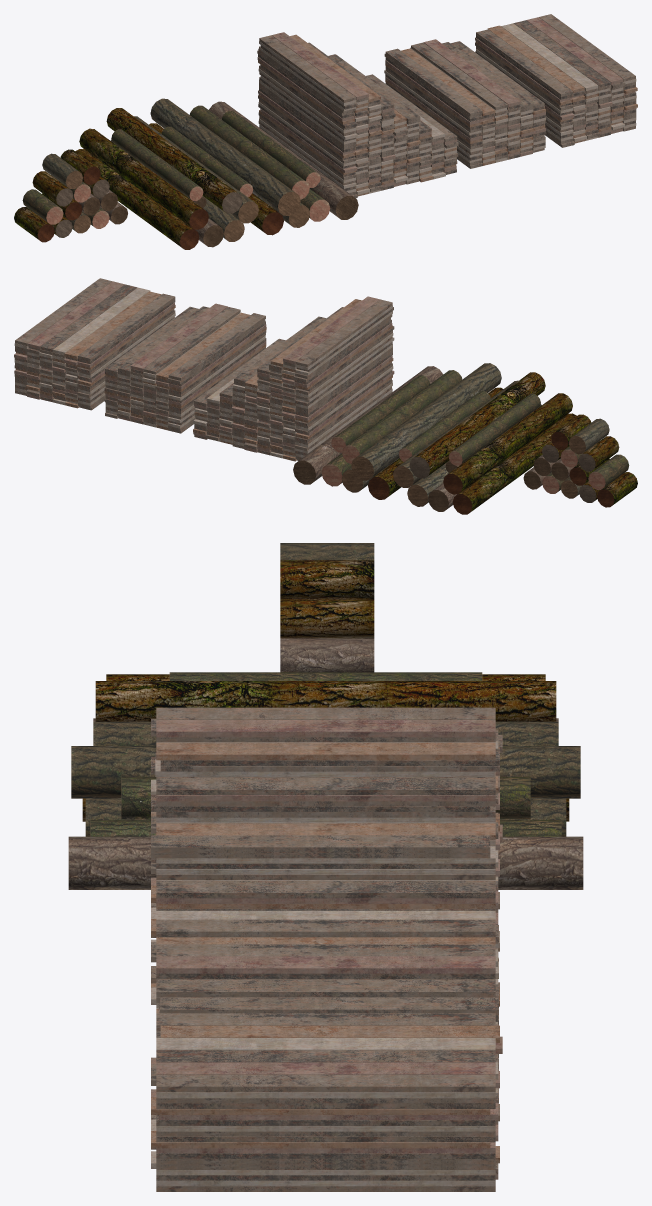
Rendered from woodpack.fbx.
The picture shows the model from 3 angles, top to bottom: view 1: azimuth 30°, elevation 25°; view 2: azimuth 150°, elevation 25°; view 3: azimuth 270°, elevation 25°; orthographic projection. The views are drawn at different scales.
Visible parts, largest first — view 1: PCAK_wood4, PCAK_wood1, PCAK_wood2, PCAK_wood3, PCAK_wood5; view 2: PCAK_wood4, PCAK_wood1, PCAK_wood2, PCAK_wood3, PCAK_wood5; view 3: PCAK_wood1, PCAK_wood3, PCAK_wood4, PCAK_wood2, PCAK_wood5.
Part boxes in pixels (box(x1,y1,x2,y2)): PCAK_wood4: box(75, 98, 358, 249); PCAK_wood1: box(257, 32, 458, 198); PCAK_wood2: box(384, 39, 545, 168); PCAK_wood3: box(475, 14, 637, 147); PCAK_wood5: box(14, 149, 127, 242); PCAK_wood4: box(293, 363, 576, 514); PCAK_wood1: box(193, 296, 394, 461); PCAK_wood2: box(104, 303, 266, 433); PCAK_wood3: box(14, 278, 175, 410); PCAK_wood5: box(523, 414, 637, 507); PCAK_wood1: box(151, 707, 502, 1006); PCAK_wood3: box(151, 1013, 502, 1191); PCAK_wood4: box(68, 672, 583, 889); PCAK_wood2: box(156, 919, 498, 1103); PCAK_wood5: box(280, 543, 374, 672).
Size of the model in its own units: 1554 by 261 by 609.
Materials: 2 (2 with a texture image).
